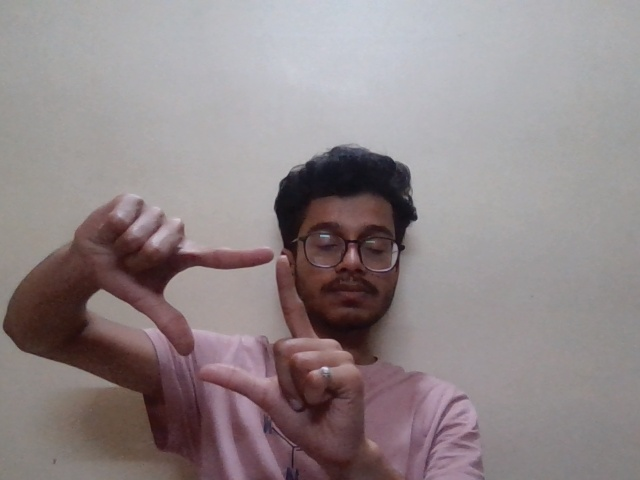video: (45, 181, 376, 447)
